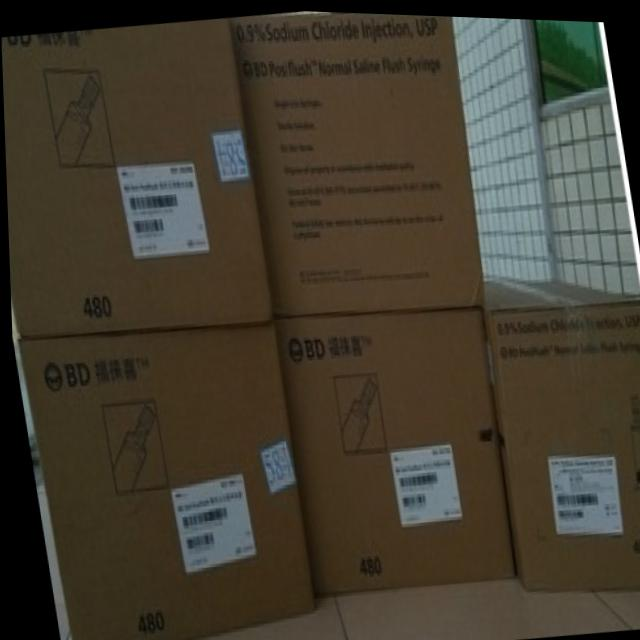box: (16, 323, 313, 640), (1, 18, 275, 344), (231, 11, 483, 317), (272, 306, 512, 595), (481, 273, 640, 587)
